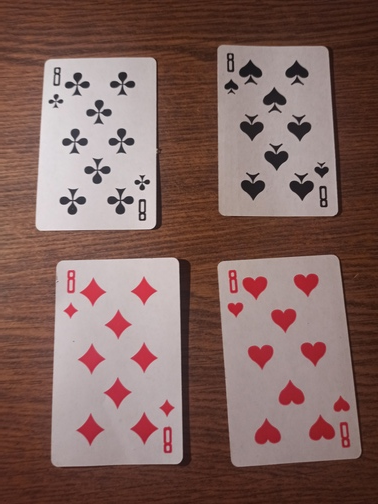eightclubs: (37, 57, 157, 232)
eightdiamonds: (50, 258, 187, 466)
eighthearts: (211, 254, 364, 466)
eightspades: (216, 41, 342, 217)
